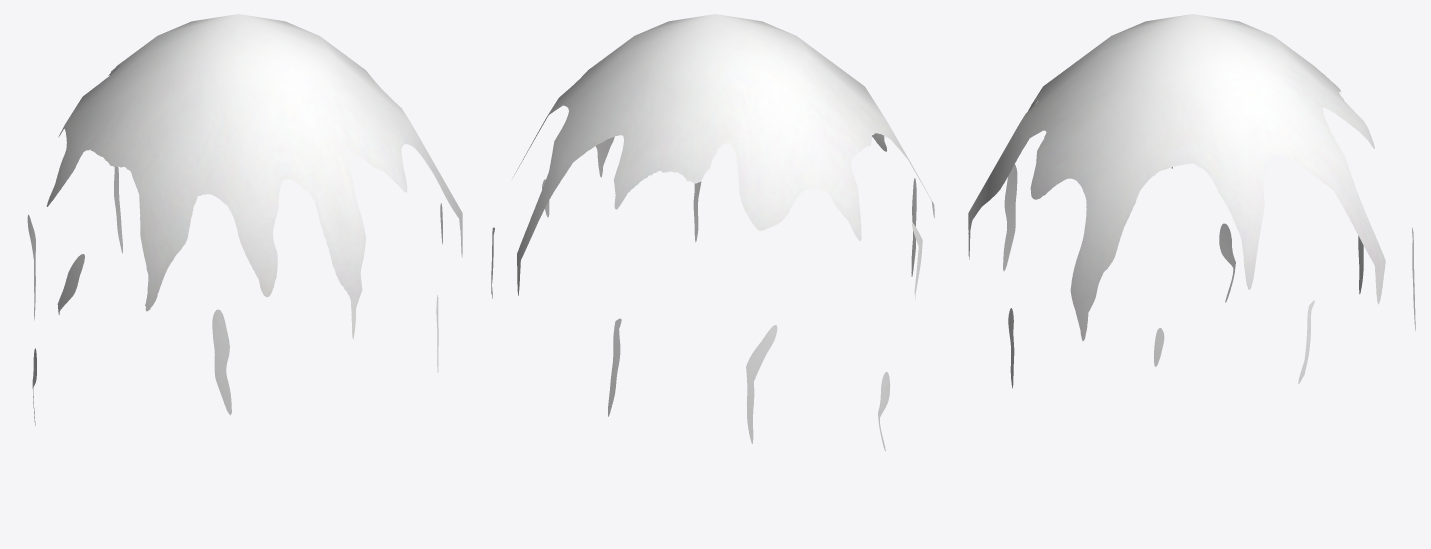
File: projectileHead.fbx
3 views of the same model, side by side, from view 1: azimuth 30°, elevation 25°; view 2: azimuth 150°, elevation 25°; view 3: azimuth 270°, elevation 25° (orthographic).
Parts seen in each view (by area): view 1: projectileHead; view 2: projectileHead; view 3: projectileHead.
Boxes of the visible parts, x1=… form: projectileHead: x1=27, y1=14, x2=462, y2=425; projectileHead: x1=491, y1=14, x2=934, y2=451; projectileHead: x1=968, y1=14, x2=1415, y2=388.
Bounding box in the file's own units: 70.7 × 74.12 × 70.7.
